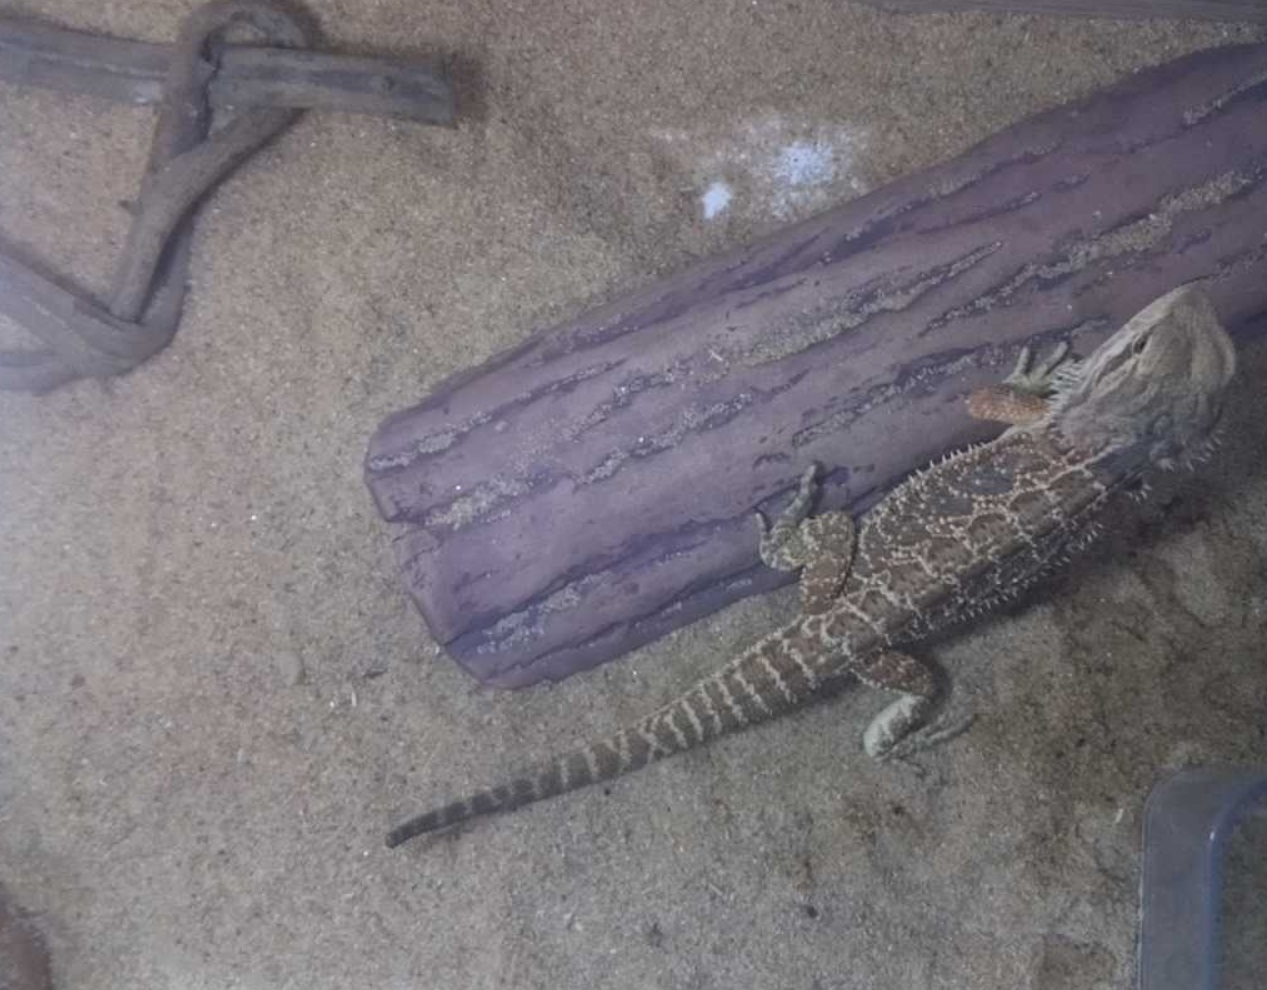bearded: (383, 280, 1248, 849)
